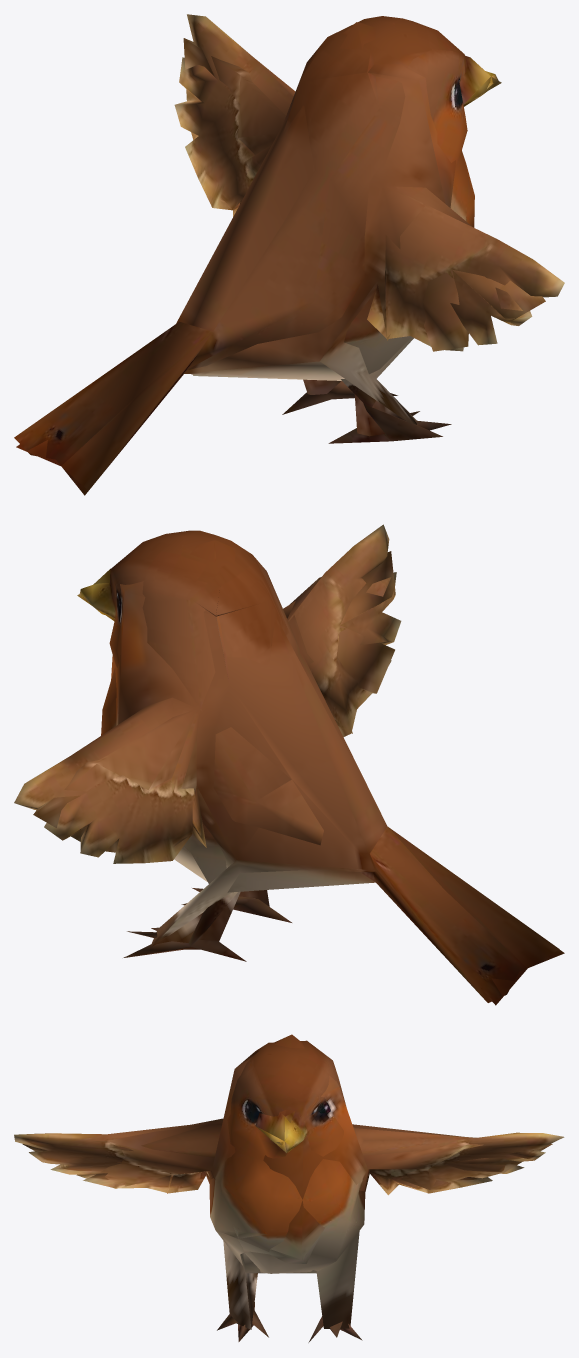
The model's file is fugl.glb.
3 renders of one model, top to bottom at view 1: azimuth 30°, elevation 25°; view 2: azimuth 150°, elevation 25°; view 3: azimuth 270°, elevation 25°, orthographic. The views are drawn at different scales.
Parts seen in each view (by area): view 1: near, far; view 2: near, far; view 3: near, far.
Boxes of the visible parts, <box> form: near: <box>14,14,564,495</box>; far: <box>16,22,545,490</box>; near: <box>14,524,564,1002</box>; far: <box>33,540,559,1005</box>; near: <box>14,1040,564,1342</box>; far: <box>22,1034,552,1329</box>.
Size of the model in its own units: 0.2117 by 0.1762 by 0.3028.
Materials: 1 (1 with a texture image).
